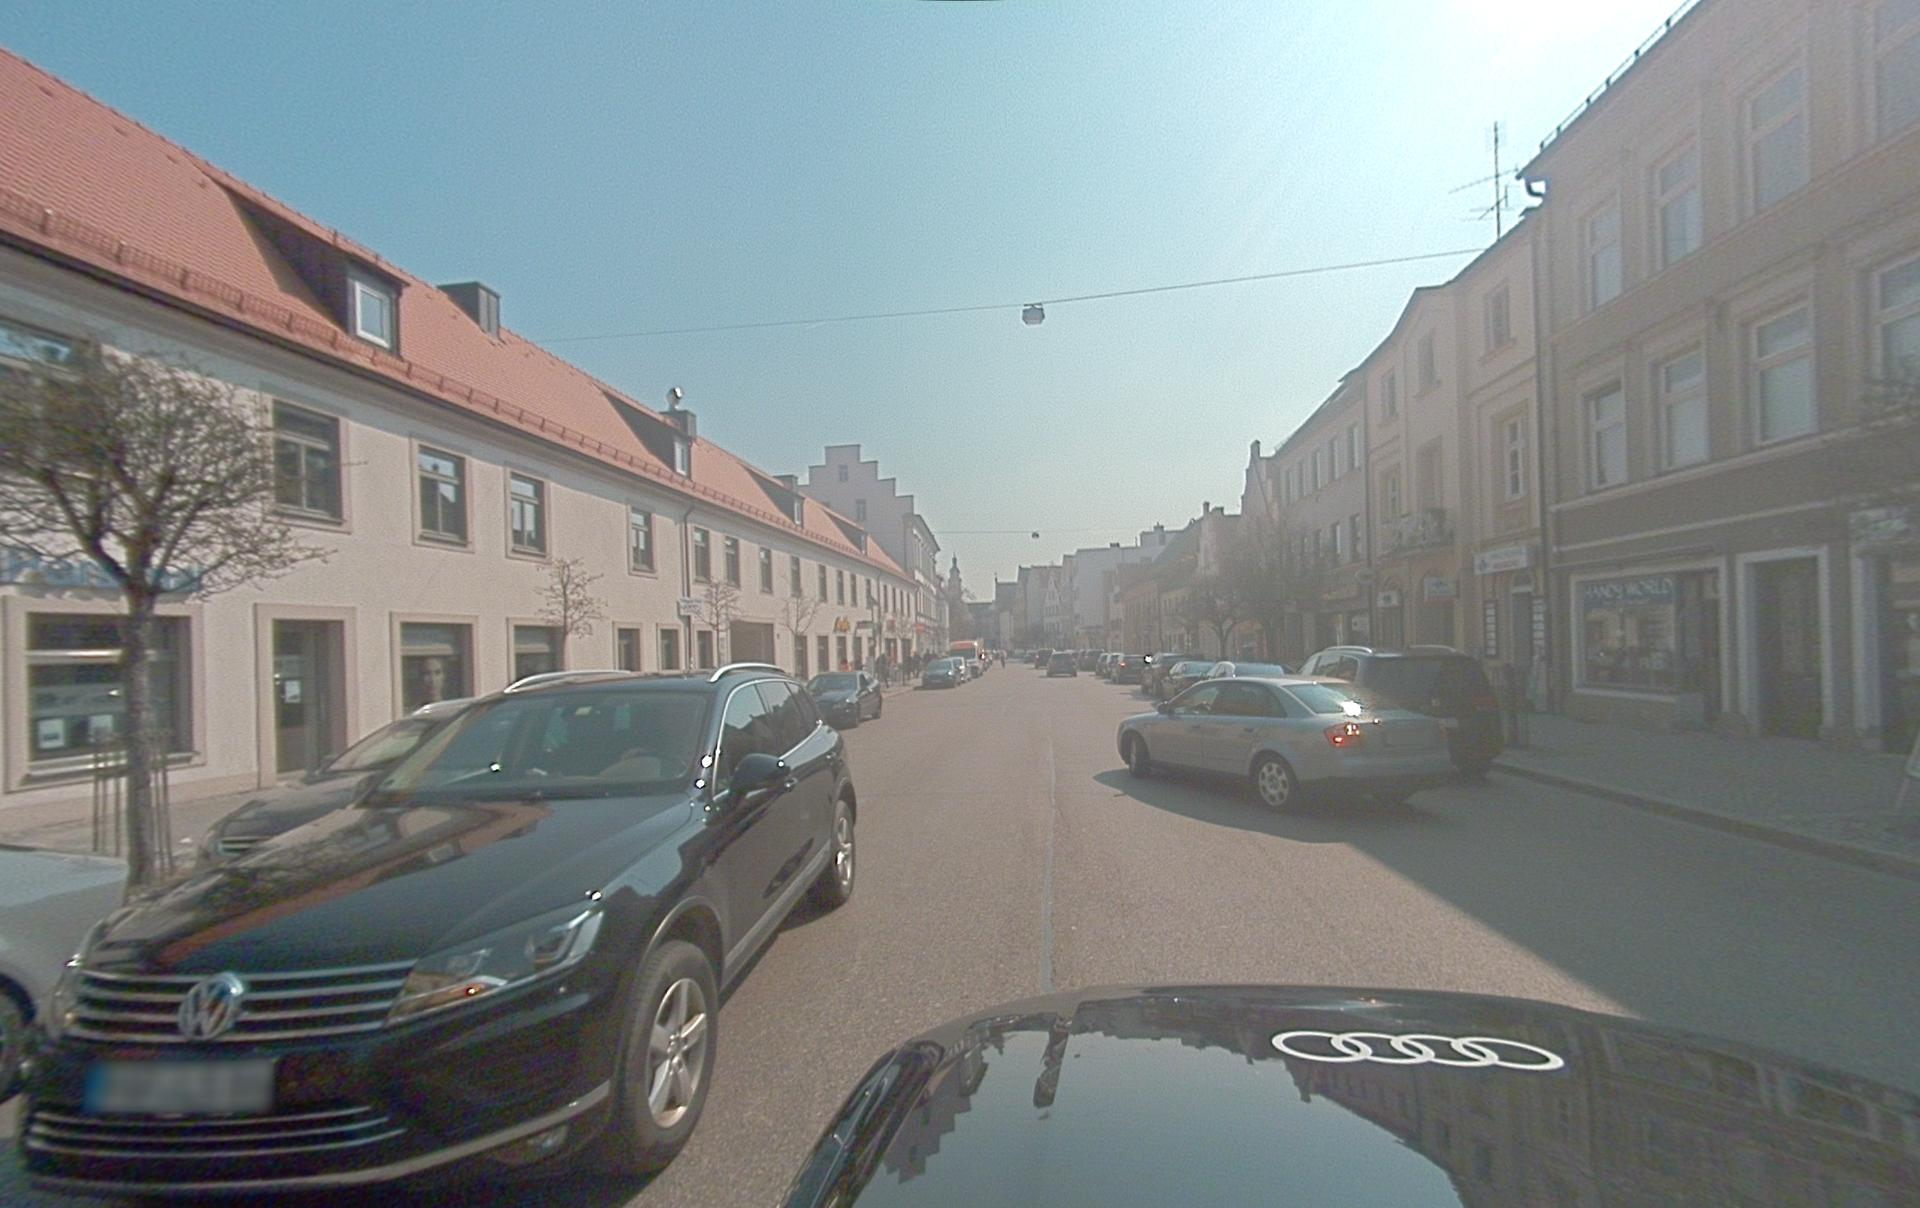car: (15, 661, 858, 1205), (778, 983, 1920, 1208), (1116, 674, 1454, 813), (1297, 644, 1504, 778), (806, 671, 883, 729), (1159, 661, 1215, 701), (921, 658, 960, 689), (1045, 651, 1078, 676)
